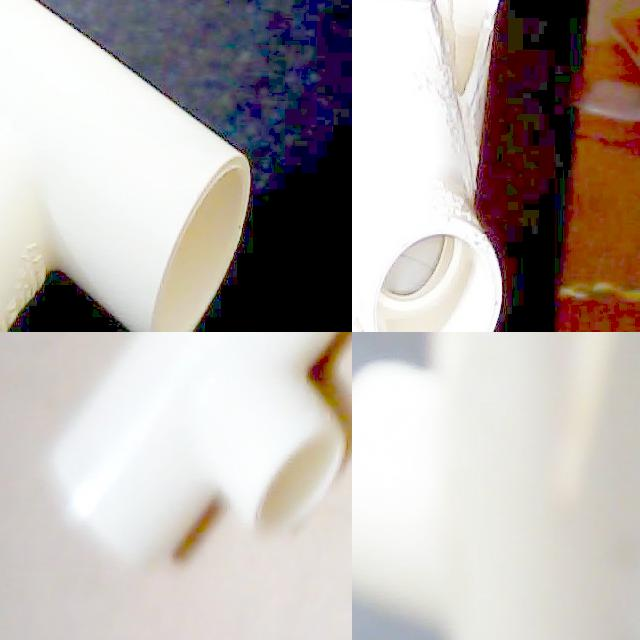Defective: (358, 0, 492, 219), (546, 332, 640, 479), (566, 332, 625, 437), (352, 292, 446, 332)
T Joint: (51, 332, 348, 569), (352, 0, 516, 332)
